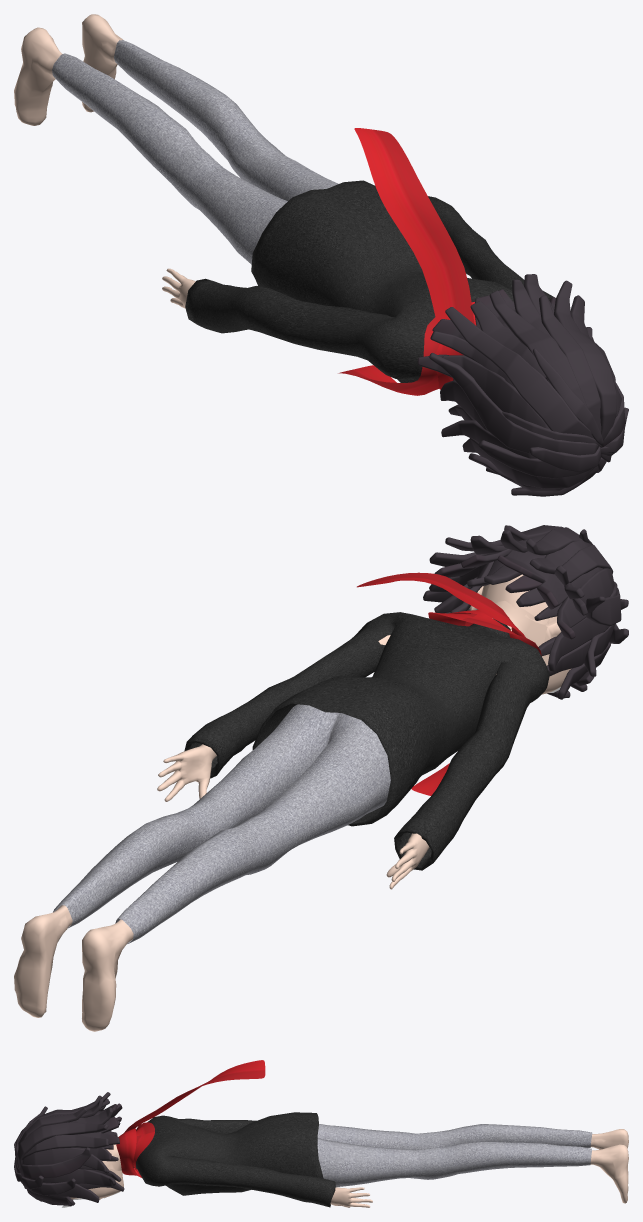
The model's file is Girl.obj.
3 renders of one model, top to bottom at view 1: azimuth 30°, elevation 25°; view 2: azimuth 150°, elevation 25°; view 3: azimuth 270°, elevation 25°, orthographic. The views are drawn at different scales.
Visible parts, largest first — view 1: Top_pERSONAJE.004, hair_Hair001.baked.001, bot_pERSONAJE.005, scarf_Cube, body_pERSONAJE.002; view 2: Top_pERSONAJE.004, bot_pERSONAJE.005, hair_Hair001.baked.001, body_pERSONAJE.002, scarf_Cube, Head_Hair001.baked.005; view 3: Top_pERSONAJE.004, bot_pERSONAJE.005, hair_Hair001.baked.001, body_pERSONAJE.002, scarf_Cube, Head_Hair001.baked.005.
Part boxes in pixels (box(x1,y1,x2,y2)): Top_pERSONAJE.004: box(185, 180, 553, 382); hair_Hair001.baked.001: box(417, 274, 628, 496); bot_pERSONAJE.005: box(52, 40, 338, 264); scarf_Cube: box(338, 128, 476, 395); body_pERSONAJE.002: box(14, 14, 195, 308); Top_pERSONAJE.004: box(184, 612, 549, 870); bot_pERSONAJE.005: box(53, 704, 390, 943); hair_Hair001.baked.001: box(423, 525, 628, 699); body_pERSONAJE.002: box(14, 600, 549, 1031); scarf_Cube: box(357, 572, 541, 795); Head_Hair001.baked.005: box(469, 574, 571, 694); Top_pERSONAJE.004: box(133, 1112, 335, 1207); bot_pERSONAJE.005: box(317, 1124, 592, 1187); hair_Hair001.baked.001: box(14, 1092, 124, 1206); body_pERSONAJE.002: box(102, 1129, 628, 1207); scarf_Cube: box(116, 1060, 265, 1177); Head_Hair001.baked.005: box(70, 1149, 123, 1199).
Size of the model in its own units: 0.4518 by 0.395 by 1.61.
7 materials, 6 textured.
